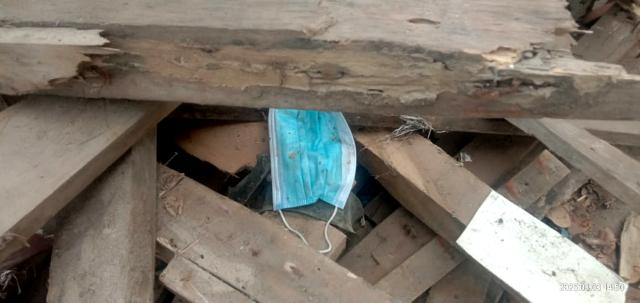mask: (271, 112, 352, 210)
